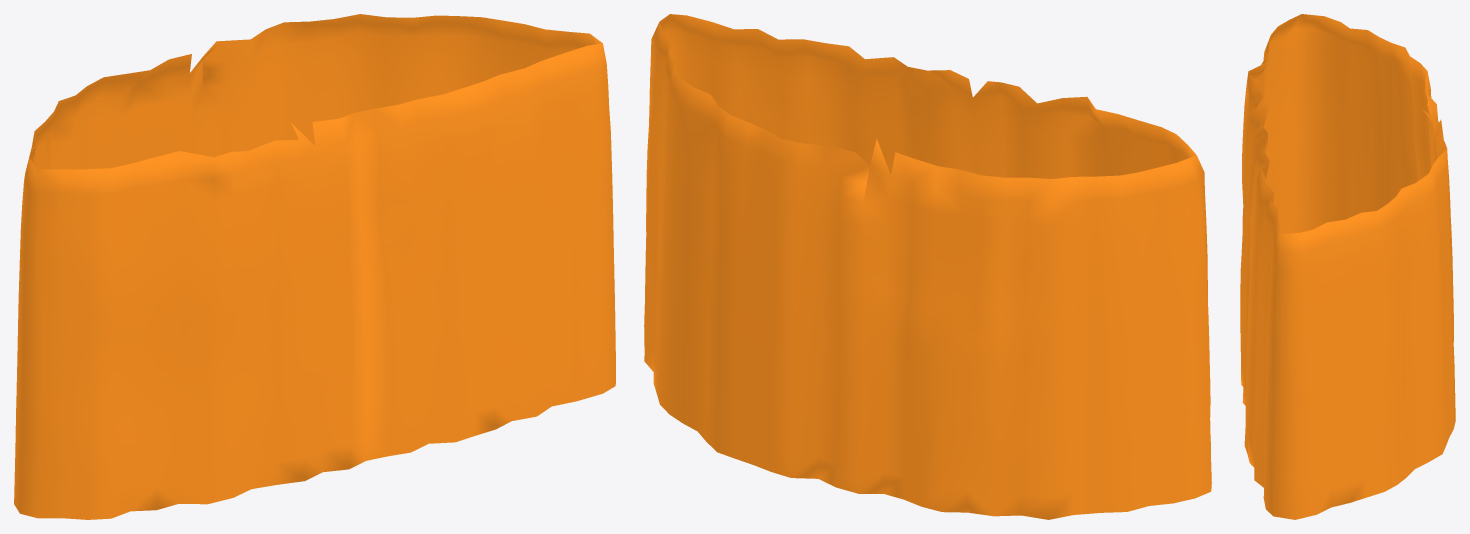
File: towhall_hover.glb
The picture shows the model from 3 angles, left to right: view 1: azimuth 30°, elevation 25°; view 2: azimuth 150°, elevation 25°; view 3: azimuth 270°, elevation 25°; orthographic projection. The views are drawn at different scales.
Parts seen in each view (by area): view 1: townhall_hover; view 2: townhall_hover; view 3: townhall_hover.
Part boxes in pixels (box(x1,y1,x2,y2)): townhall_hover: box(14, 14, 615, 519); townhall_hover: box(644, 14, 1211, 519); townhall_hover: box(1240, 14, 1455, 519).
Size of the model in its own units: 3.2 by 1.82 by 1.25.
1 material, 1 textured.
